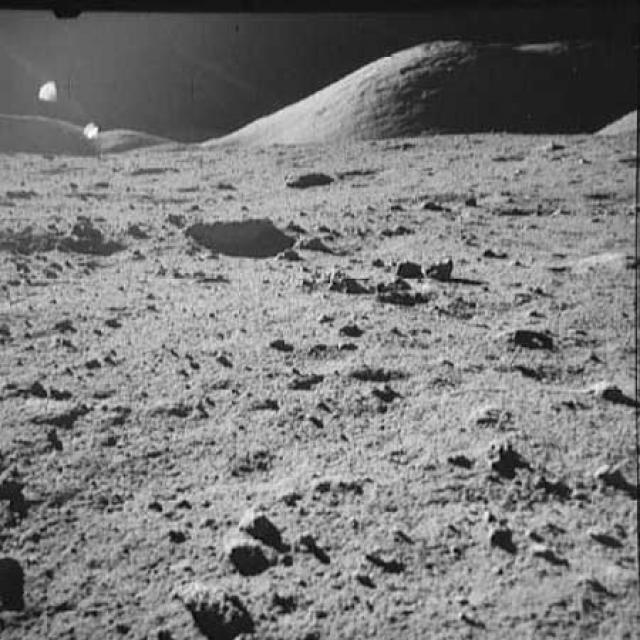crater: (179, 215, 292, 257)
rock: (174, 579, 258, 638), (61, 211, 120, 261), (0, 552, 37, 615), (235, 507, 290, 547), (0, 216, 58, 253), (226, 534, 266, 583), (499, 320, 555, 353), (586, 376, 634, 410), (320, 265, 368, 298), (374, 276, 422, 308), (439, 444, 478, 473), (488, 523, 513, 558), (390, 254, 422, 278)
